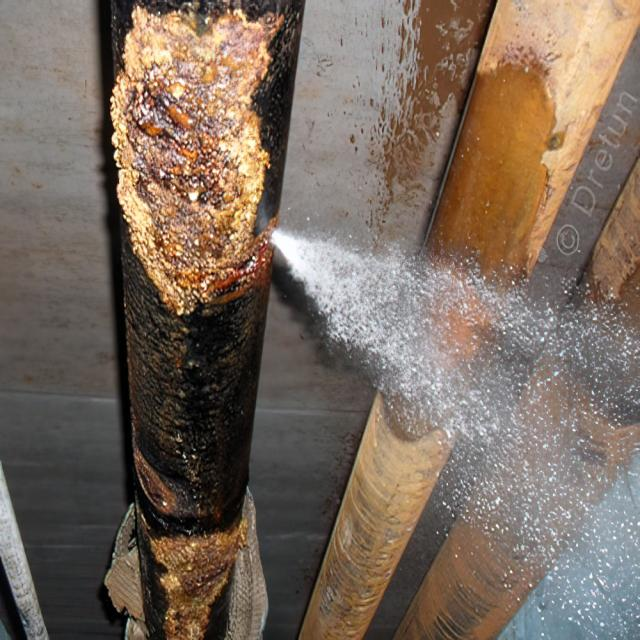leak: (264, 222, 640, 640)
